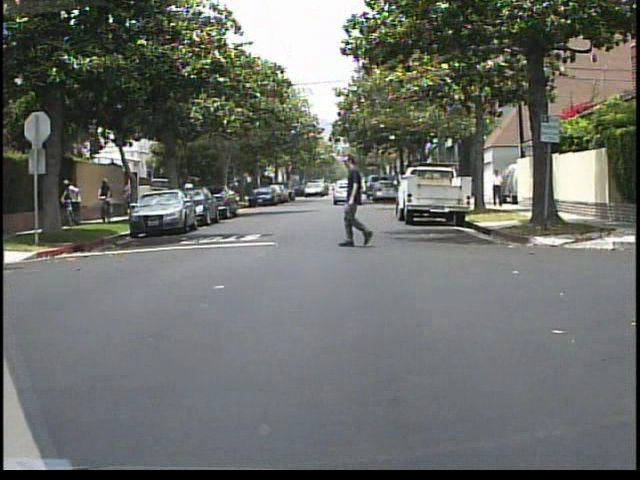person: (329, 150, 382, 252), (61, 175, 85, 226), (491, 167, 507, 209), (180, 175, 198, 210), (96, 175, 117, 201)
